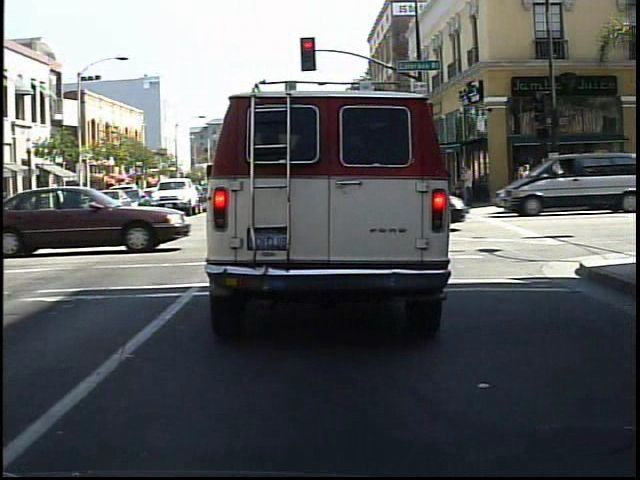person: (537, 155, 558, 208), (511, 162, 531, 207)
